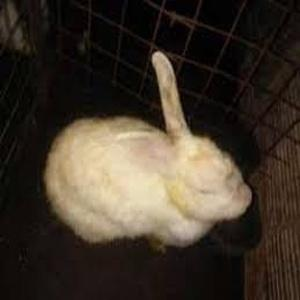rabbit: (49, 52, 254, 249)
